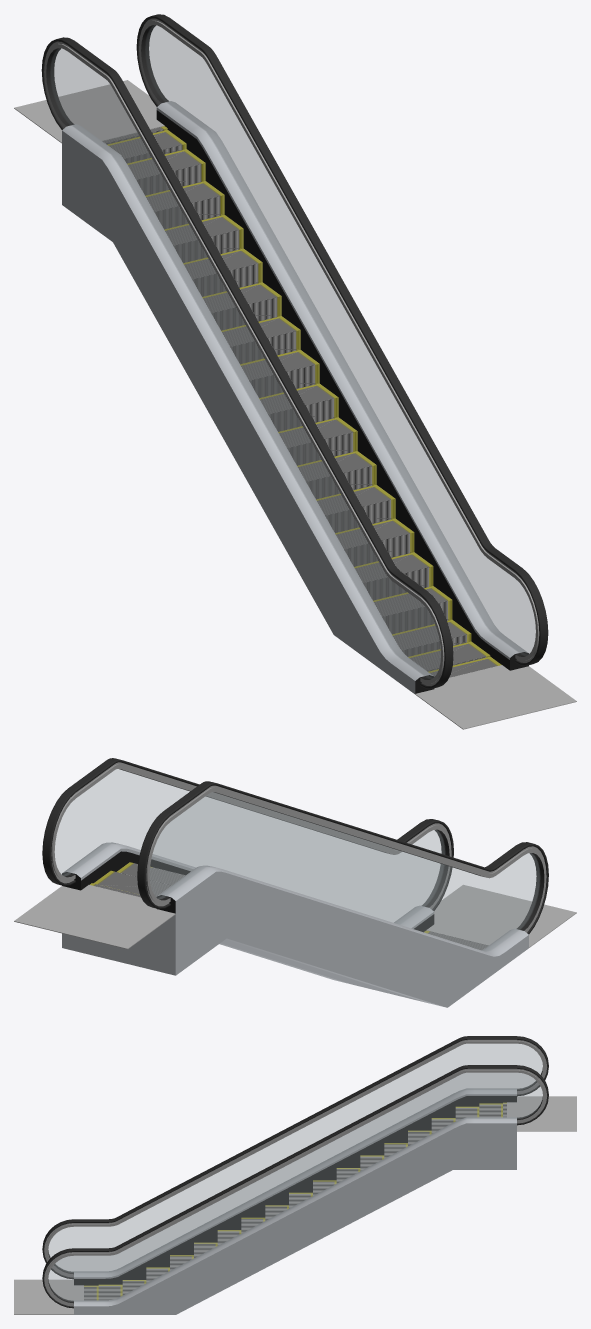
Rendered from escalator.fbx.
3 renders of one model, top to bottom at view 1: azimuth 30°, elevation 25°; view 2: azimuth 150°, elevation 25°; view 3: azimuth 270°, elevation 25°, orthographic. The views are drawn at different scales.
Parts seen in each view (by area): view 1: basehandrail_Plane.001, glass_Cube, Cube.001_Cube.003, handrail_CUBezierCircle.001, metalicCover_Cube.002, MetalicCover_Cube.005; view 2: glass_Cube, basehandrail_Plane.001, handrail_CUBezierCircle.001, MetalicCover_Cube.005, metalicCover_Cube.002, lowCover_Plane.010, Cube.001_Cube.003; view 3: glass_Cube, basehandrail_Plane.001, handrail_CUBezierCircle.001, Cube.001_Cube.003, MetalicCover_Cube.005, metalicCover_Cube.002.
Boxes of the visible parts, bbox=[...] form: basehandrail_Plane.001: bbox=[62, 101, 528, 694]; glass_Cube: bbox=[50, 25, 535, 678]; Cube.001_Cube.003: bbox=[103, 126, 501, 677]; handrail_CUBezierCircle.001: bbox=[41, 14, 548, 688]; metalicCover_Cube.002: bbox=[415, 665, 576, 729]; MetalicCover_Cube.005: bbox=[14, 80, 164, 143]; glass_Cube: bbox=[55, 769, 539, 951]; basehandrail_Plane.001: bbox=[62, 842, 528, 1007]; handrail_CUBezierCircle.001: bbox=[42, 758, 548, 934]; MetalicCover_Cube.005: bbox=[14, 885, 175, 949]; metalicCover_Cube.002: bbox=[426, 885, 576, 947]; lowCover_Plane.010: bbox=[81, 928, 425, 1002]; Cube.001_Cube.003: bbox=[90, 862, 487, 950]; glass_Cube: bbox=[48, 1044, 542, 1301]; basehandrail_Plane.001: bbox=[74, 1088, 516, 1314]; handrail_CUBezierCircle.001: bbox=[42, 1036, 548, 1308]; Cube.001_Cube.003: bbox=[84, 1102, 506, 1300]; MetalicCover_Cube.005: bbox=[507, 1096, 576, 1131]; metalicCover_Cube.002: bbox=[14, 1279, 83, 1314].
Size of the model in its own units: 162 by 534 by 1110.
